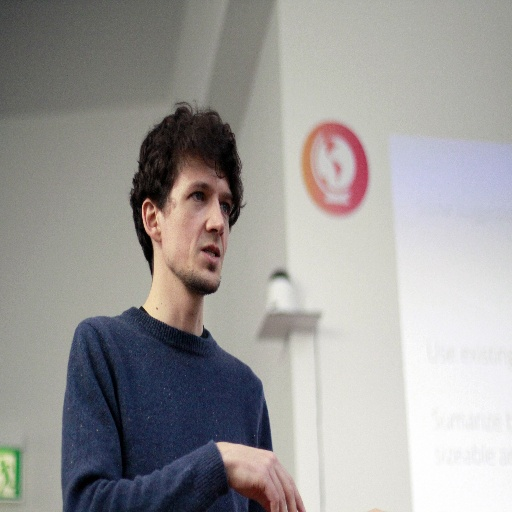hand: (207, 440, 301, 508)
